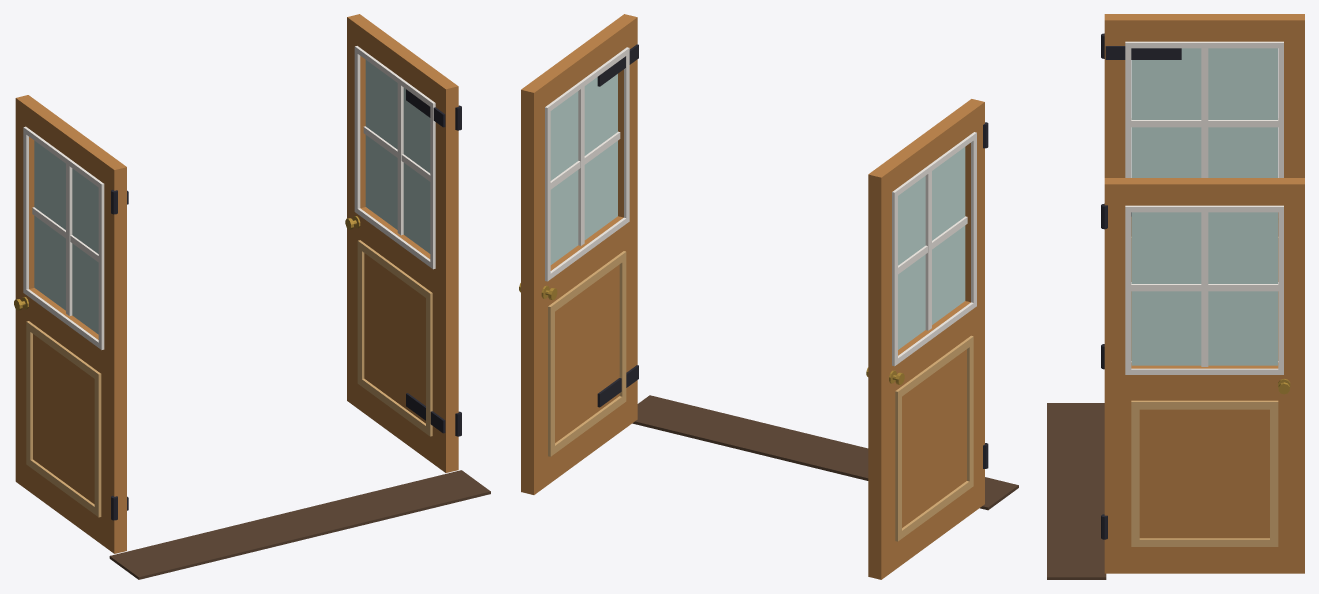
The model's file is CatCafe_Plot_FrontDoor.glb.
3 renders of one model, left to right at view 1: azimuth 30°, elevation 25°; view 2: azimuth 150°, elevation 25°; view 3: azimuth 270°, elevation 25°, orthographic. The views are drawn at different scales.
Parts seen in each view (by area): view 1: CatCafe_Plot_FrontDoor_OpenL, CatCafe_Plot_FrontDoor_OpenR, CatCafe_Plot_FrontDoor, CatCafe_Plot_FrontDoor_OpenR_Glass, CatCafe_Plot_FrontDoor_OpenL_Glass; view 2: CatCafe_Plot_FrontDoor_OpenL, CatCafe_Plot_FrontDoor_OpenR, CatCafe_Plot_FrontDoor_OpenR_Glass, CatCafe_Plot_FrontDoor_OpenL_Glass, CatCafe_Plot_FrontDoor; view 3: CatCafe_Plot_FrontDoor_OpenL, CatCafe_Plot_FrontDoor_OpenL_Glass, CatCafe_Plot_FrontDoor_OpenR, CatCafe_Plot_FrontDoor_OpenR_Glass, CatCafe_Plot_FrontDoor.
Part boxes in pixels (x1,y1,x2,y2): CatCafe_Plot_FrontDoor_OpenL: (345, 14, 461, 472); CatCafe_Plot_FrontDoor_OpenR: (14, 95, 128, 553); CatCafe_Plot_FrontDoor: (109, 470, 490, 579); CatCafe_Plot_FrontDoor_OpenR_Glass: (34, 140, 98, 334); CatCafe_Plot_FrontDoor_OpenL_Glass: (365, 60, 430, 253); CatCafe_Plot_FrontDoor_OpenL: (519, 14, 638, 494); CatCafe_Plot_FrontDoor_OpenR: (866, 99, 988, 579); CatCafe_Plot_FrontDoor_OpenR_Glass: (898, 147, 965, 349); CatCafe_Plot_FrontDoor_OpenL_Glass: (550, 74, 617, 264); CatCafe_Plot_FrontDoor: (632, 395, 1018, 510); CatCafe_Plot_FrontDoor_OpenL: (1101, 178, 1304, 573); CatCafe_Plot_FrontDoor_OpenL_Glass: (1131, 212, 1277, 365); CatCafe_Plot_FrontDoor_OpenR: (1101, 14, 1304, 369); CatCafe_Plot_FrontDoor_OpenR_Glass: (1131, 48, 1277, 177); CatCafe_Plot_FrontDoor: (1047, 403, 1106, 579).
Bounding box in the file's own units: 7.16 × 7.33 × 4.35.
Materials: 1 (1 with a texture image).
